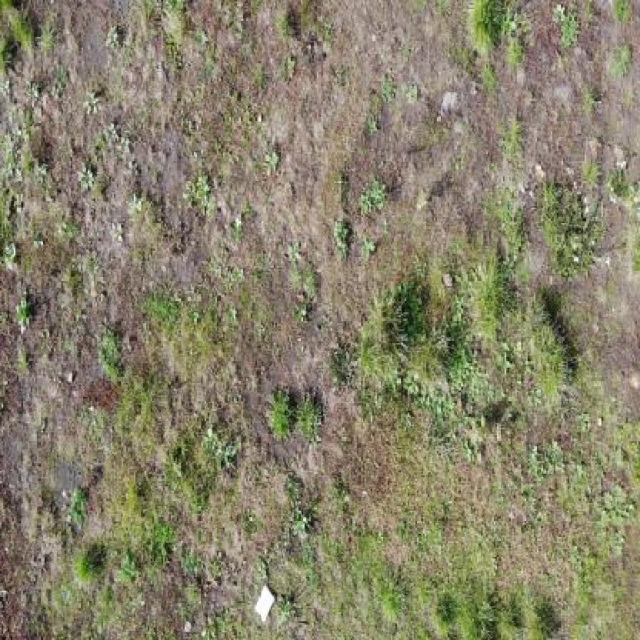Garbage: (254, 584, 276, 624)
